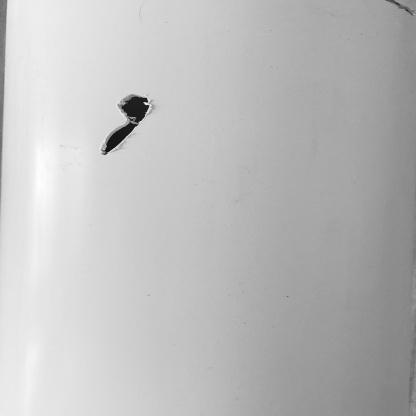kongdong: (92, 92, 159, 156)
